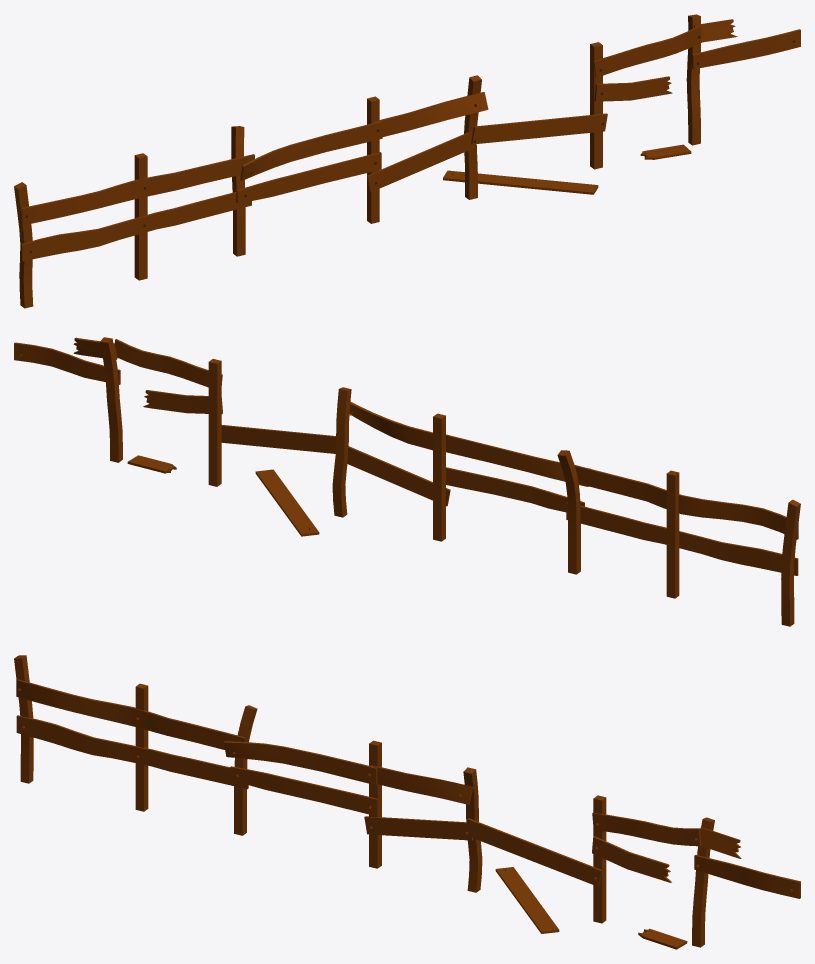
The model's file is wood fence.fbx.
3 renders of one model, top to bottom at view 1: azimuth 30°, elevation 25°; view 2: azimuth 150°, elevation 25°; view 3: azimuth 330°, elevation 25°, orthographic.
Visible parts, largest first — view 1: Box017; view 2: Box017; view 3: Box017.
Boxes of the visible parts, <box> form: Box017: <box>14,14,800,308</box>; Box017: <box>14,337,800,626</box>; Box017: <box>14,655,800,949</box>.
Size of the model in its own units: 736 by 115 by 96.52.
